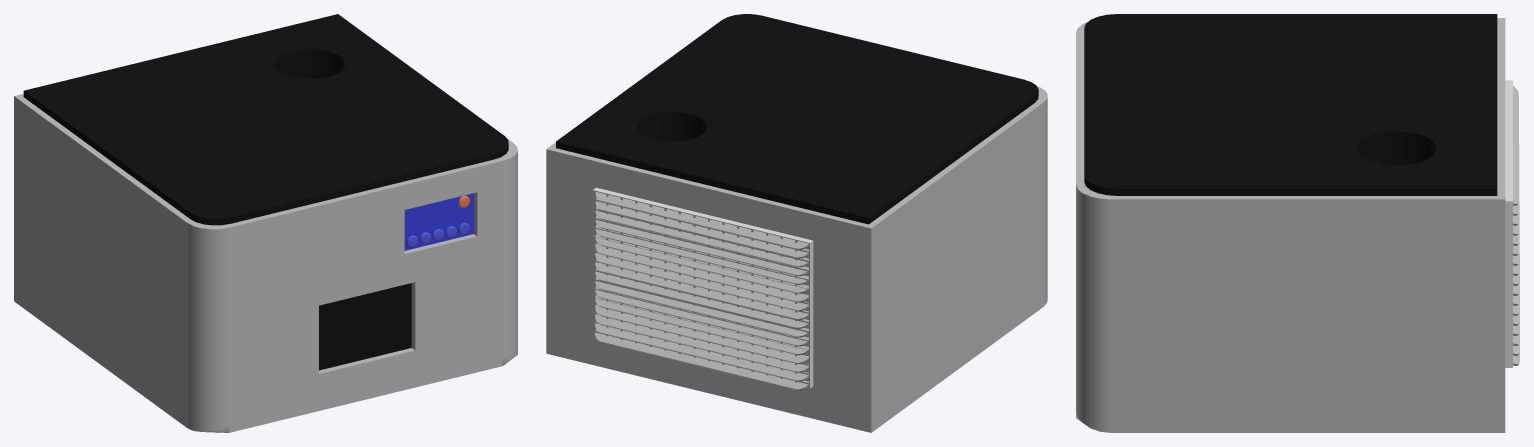
The picture shows the model from 3 angles, left to right: view 1: azimuth 30°, elevation 25°; view 2: azimuth 150°, elevation 25°; view 3: azimuth 270°, elevation 25°; orthographic projection. The views are drawn at different scales.
Parts seen in each view (by area): view 1: Cube, Cube.001, Cube.008, Circle.004, Circle.001; view 2: Cube, Cube.001, Cube.007, Cube.006, Circle.004, Cube.005; view 3: Cube, Cube.001, Cube.005, Circle.004, Cube.007.
Part boxes in pixels (x1,y1,x2,y2): Cube: (14, 94, 517, 432); Cube.001: (23, 14, 508, 370); Cube.008: (404, 193, 473, 250); Circle.004: (274, 49, 345, 79); Circle.001: (406, 222, 469, 247); Cube: (546, 86, 1047, 432); Cube.001: (556, 14, 1038, 224); Cube.007: (595, 191, 808, 390); Cube.006: (592, 190, 809, 388); Circle.004: (636, 112, 707, 141); Cube.005: (593, 187, 813, 388); Cube: (1076, 18, 1505, 432); Cube.001: (1084, 14, 1497, 195); Cube.005: (1505, 80, 1512, 367); Circle.004: (1355, 131, 1437, 165); Cube.007: (1513, 85, 1519, 365).
Size of the model in its own units: 2 by 1.29 by 2.07.
